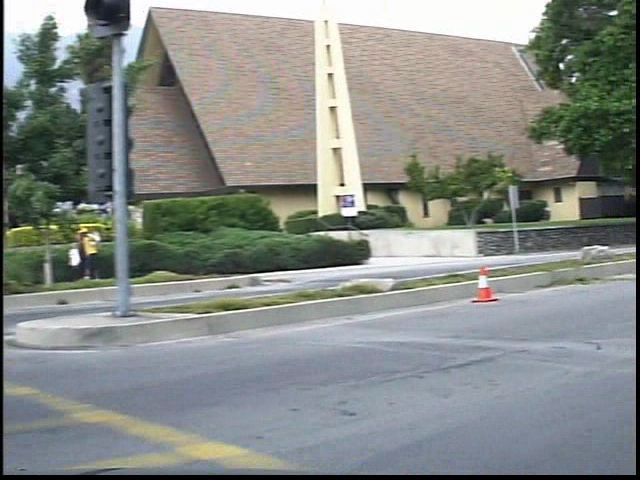person: (89, 220, 121, 282)
